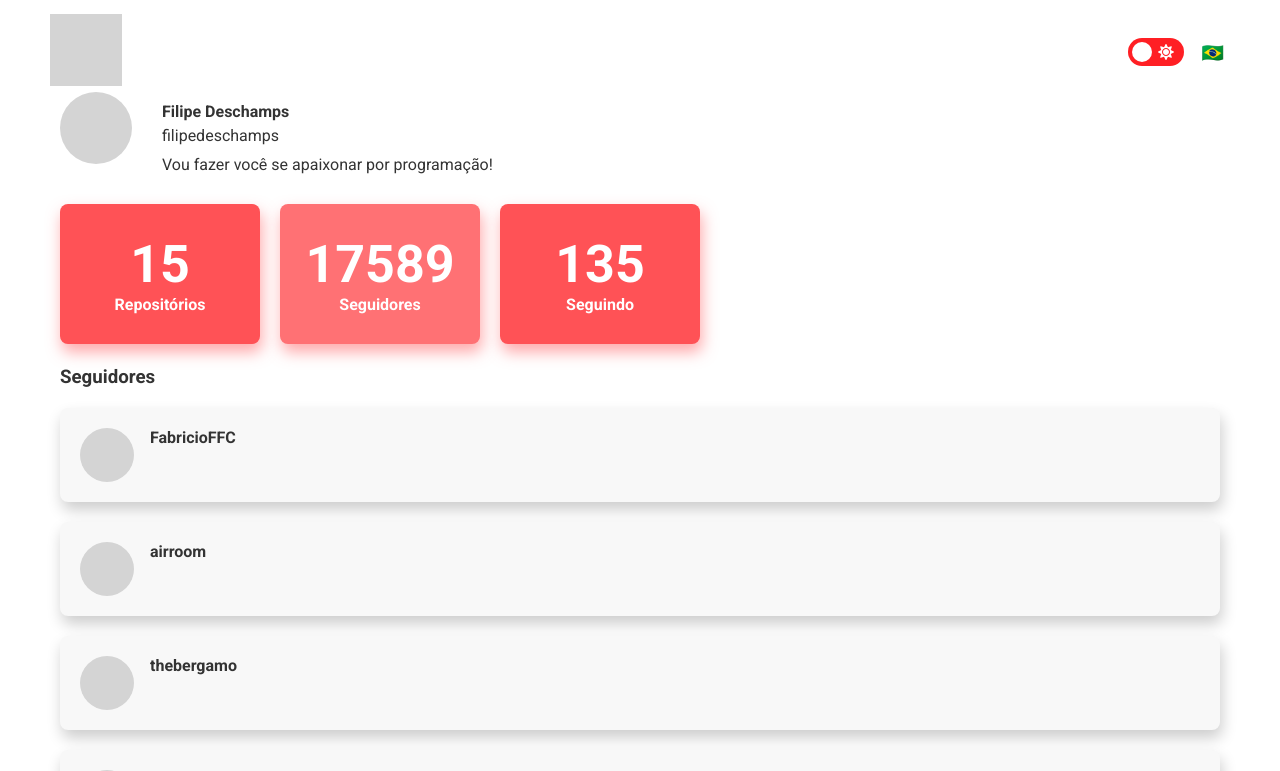
Scenario: following › should select following tab
Click the element with id "following-card": (600,274) top-left (500, 204), bottom-right (700, 344)
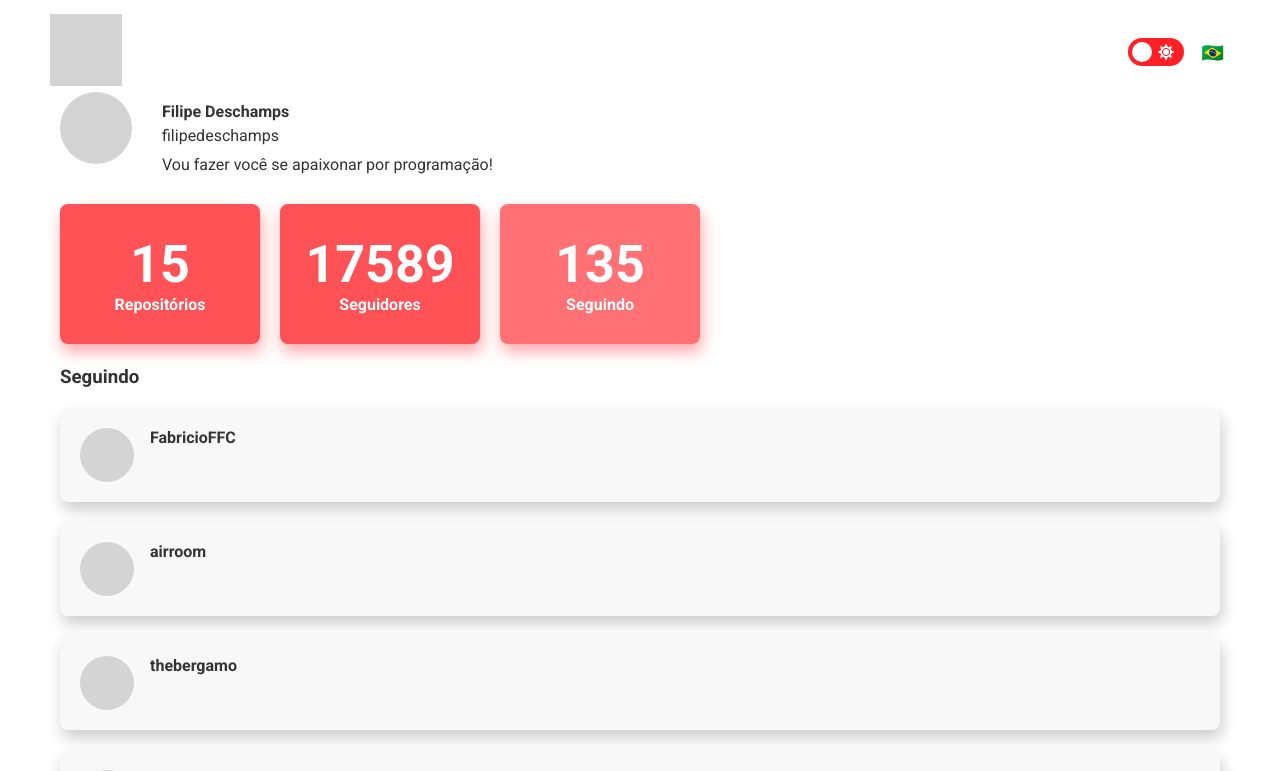
Check: the heading "Seguindo" is shown, box top-left (60, 366), bottom-right (139, 388)
